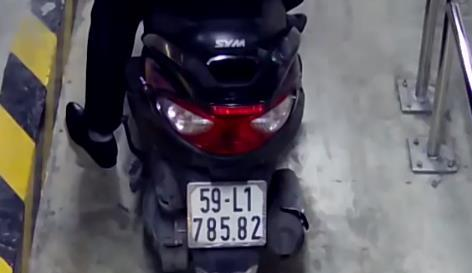lisence: (186, 180, 266, 248)
